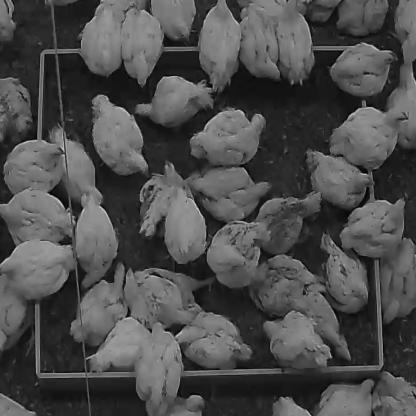chicken: (279, 280, 355, 363), (122, 265, 205, 329), (243, 191, 324, 255), (48, 119, 106, 207), (331, 104, 410, 168), (72, 260, 130, 347), (0, 239, 78, 303), (240, 254, 329, 310), (134, 317, 184, 415), (91, 95, 151, 176), (190, 107, 268, 169), (76, 184, 122, 287), (138, 162, 198, 239), (338, 193, 409, 258), (305, 142, 377, 206), (0, 187, 78, 246), (196, 0, 244, 95), (170, 314, 254, 368), (261, 313, 337, 372), (183, 172, 275, 220), (85, 313, 161, 371), (205, 222, 267, 288), (318, 232, 369, 312), (0, 141, 68, 197), (138, 76, 216, 124), (330, 42, 399, 96), (164, 184, 208, 267), (80, 0, 127, 77), (376, 235, 416, 325), (275, 0, 316, 87), (239, 1, 282, 83), (123, 7, 164, 90), (0, 262, 35, 354), (385, 64, 416, 153), (0, 75, 36, 147), (313, 378, 378, 416), (370, 369, 416, 415), (333, 0, 389, 35), (152, 0, 196, 41), (393, 0, 415, 63), (150, 396, 208, 415), (0, 0, 20, 48), (270, 395, 316, 415), (0, 393, 38, 415)
